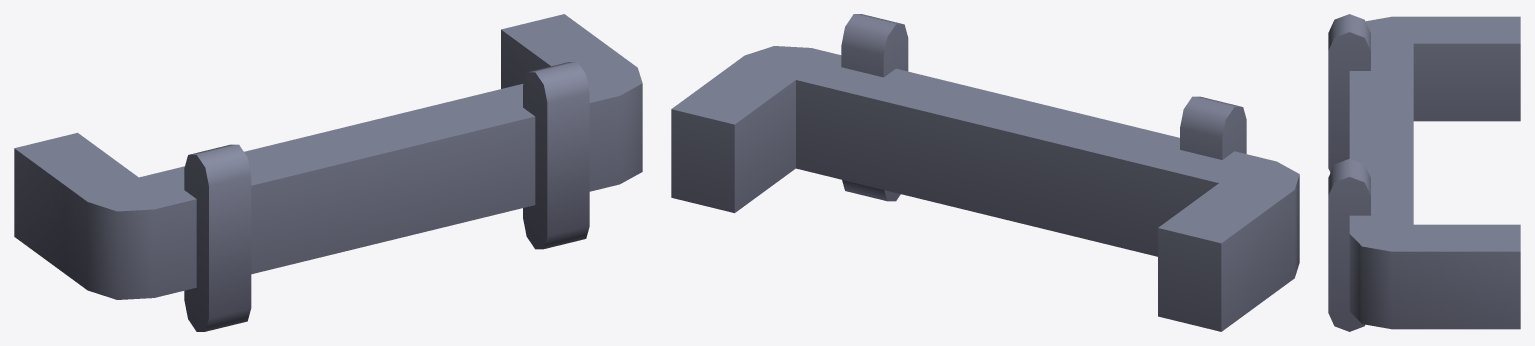
The model's file is debris-bumper.glb.
The picture shows the model from 3 angles, left to right: view 1: azimuth 30°, elevation 25°; view 2: azimuth 150°, elevation 25°; view 3: azimuth 270°, elevation 25°; orthographic projection. The views are drawn at different scales.
Visible parts, largest first — view 1: debris-bumper; view 2: debris-bumper; view 3: debris-bumper.
Boxes of the visible parts, left/top/right/bottom form: debris-bumper: left=14, top=14, right=642, bottom=331; debris-bumper: left=671, top=14, right=1299, bottom=331; debris-bumper: left=1328, top=14, right=1520, bottom=331.
Bounding box in the file's own units: 1.3 × 0.4 × 0.45.
1 material, 1 textured.
